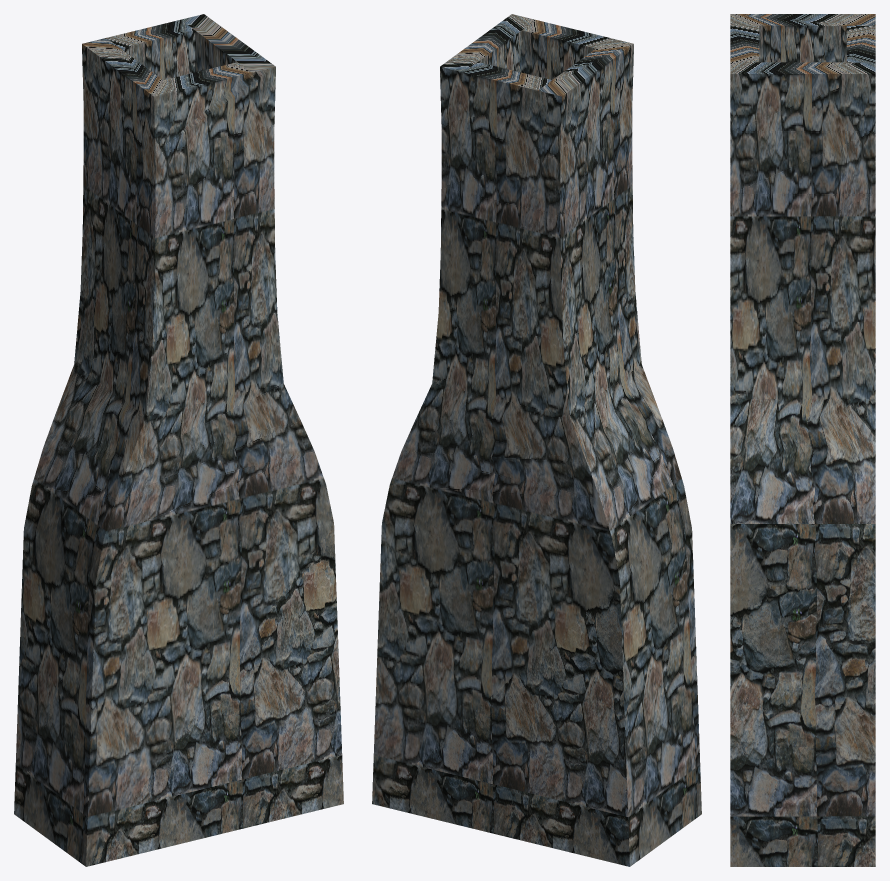
The model's file is Chimney.fbx.
3 renders of one model, left to right at view 1: azimuth 30°, elevation 25°; view 2: azimuth 150°, elevation 25°; view 3: azimuth 270°, elevation 25°, orthographic.
Visible parts, largest first — view 1: pCube1; view 2: pCube1; view 3: pCube1.
Part boxes in pixels (box(x1,y1,x2,y2)): pCube1: box(14, 14, 343, 866); pCube1: box(372, 14, 701, 866); pCube1: box(730, 14, 875, 866).
Size of the model in its own units: 9.24 by 25.82 by 4.47.
